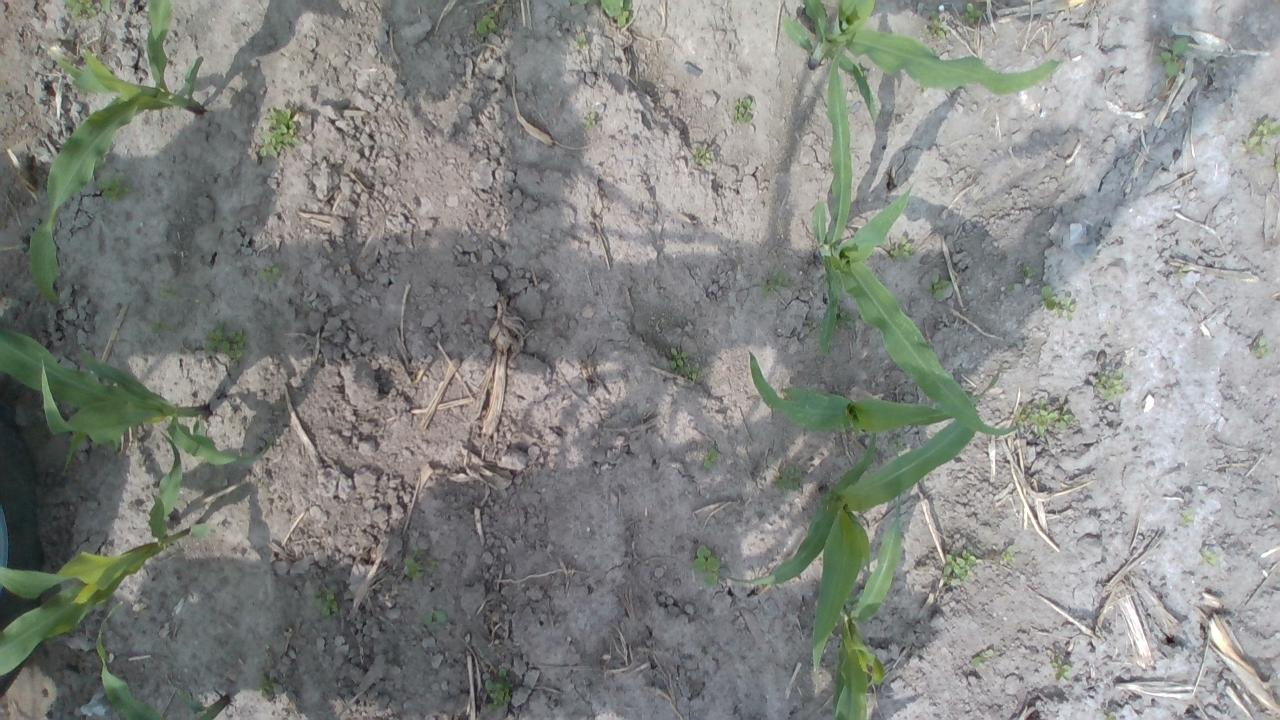Maize: (811, 38, 1024, 436), (726, 410, 982, 676), (0, 325, 270, 544), (27, 0, 206, 315), (0, 430, 216, 679), (778, 0, 1062, 96), (748, 351, 1002, 434), (828, 467, 906, 720), (94, 599, 234, 720)
Weeds: (256, 107, 301, 160), (1016, 398, 1076, 436), (206, 324, 246, 364), (1156, 36, 1192, 77), (580, 1, 632, 28), (1247, 114, 1280, 156), (402, 548, 440, 584), (485, 668, 515, 712), (692, 544, 722, 588), (1042, 288, 1078, 324), (669, 346, 704, 382), (942, 548, 976, 582), (1094, 366, 1125, 398), (66, 0, 111, 21), (762, 270, 792, 297), (312, 591, 340, 618), (476, 10, 502, 38), (776, 465, 803, 491), (927, 14, 951, 42), (102, 177, 131, 200), (929, 270, 950, 300), (732, 97, 754, 124), (890, 236, 914, 260), (958, 3, 982, 26), (693, 143, 714, 169), (1252, 336, 1272, 360), (422, 608, 446, 627), (1052, 661, 1071, 683), (970, 649, 993, 667), (254, 678, 277, 696), (260, 261, 280, 279), (998, 545, 1016, 564), (702, 448, 718, 468), (838, 311, 856, 328), (584, 113, 598, 128), (1098, 709, 1116, 720), (1176, 264, 1191, 277), (574, 35, 586, 49), (1024, 266, 1036, 279), (1275, 155, 1280, 175)
